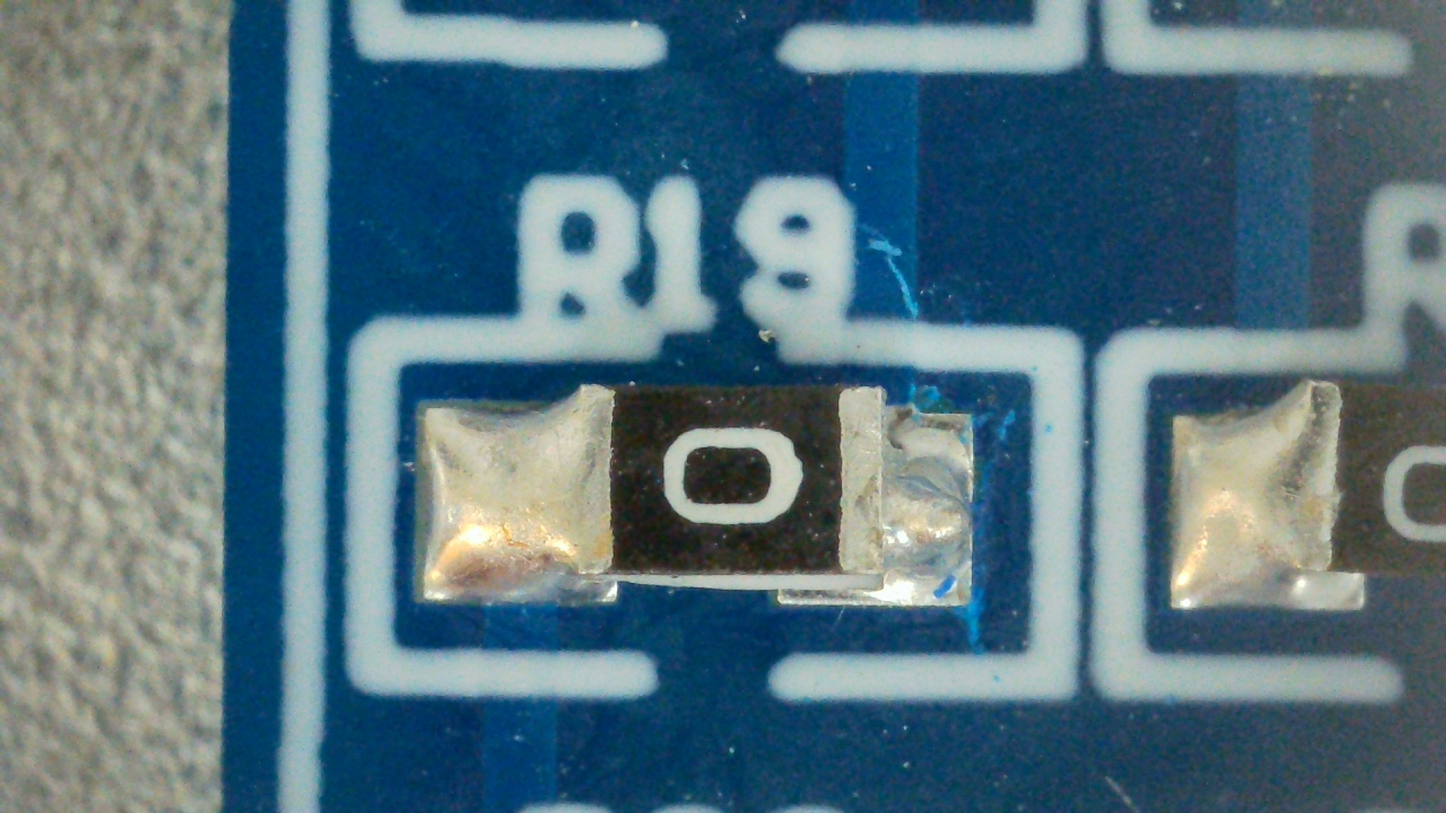NG: (417, 385, 973, 608)
